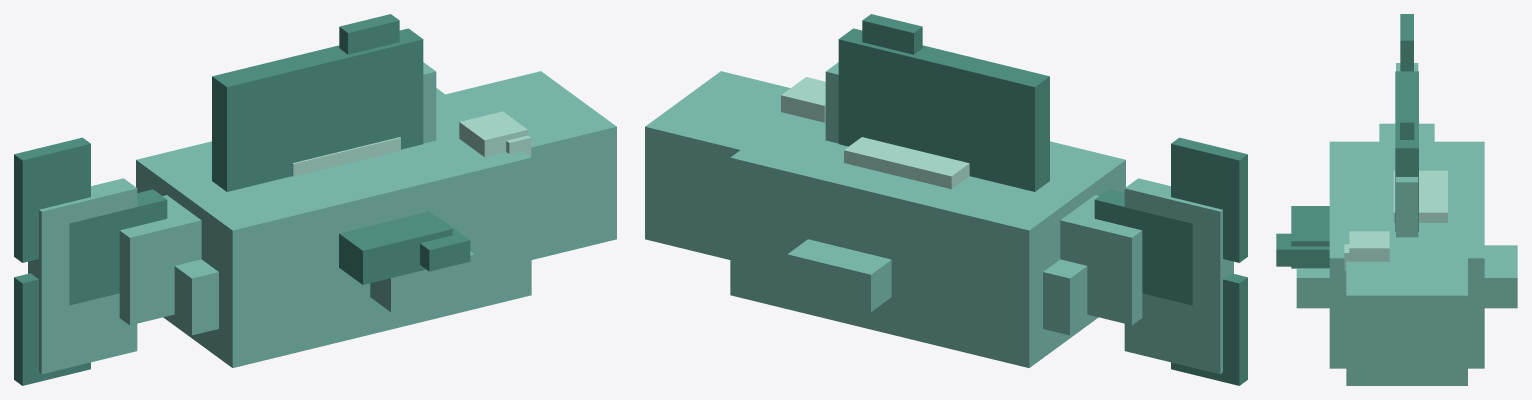
File: fish_opal_scad.glb
3 views of the same model, side by side, from view 1: azimuth 30°, elevation 25°; view 2: azimuth 150°, elevation 25°; view 3: azimuth 270°, elevation 25° (orthographic). The views are drawn at different scales.
Parts seen in each view (by area): view 1: FishArt_body, FishArt_dorsal, FishArt_tail, FishArt_pectoral, FishArt_eye, FishArt_specialty; view 2: FishArt_body, FishArt_dorsal, FishArt_tail, FishArt_specialty, FishArt_eye; view 3: FishArt_body, FishArt_pectoral, FishArt_dorsal, FishArt_specialty, FishArt_eye, FishArt_tail.
Part boxes in pixels (left/top/right/bottom): FishArt_body: left=28, top=62, right=616, bottom=374; FishArt_dorsal: left=212, top=14, right=423, bottom=191; FishArt_tail: left=14, top=137, right=167, bottom=385; FishArt_pectoral: left=339, top=211, right=470, bottom=284; FishArt_eye: left=459, top=111, right=531, bottom=156; FishArt_specialty: left=292, top=137, right=400, bottom=176; FishArt_body: left=645, top=62, right=1233, bottom=374; FishArt_dorsal: left=838, top=14, right=1049, bottom=191; FishArt_tail: left=1094, top=137, right=1247, bottom=385; FishArt_specialty: left=844, top=137, right=969, bottom=189; FishArt_eye: left=781, top=77, right=825, bottom=122; FishArt_body: left=1296, top=63, right=1517, bottom=385; FishArt_pectoral: left=1276, top=206, right=1329, bottom=268; FishArt_dorsal: left=1395, top=71, right=1418, bottom=231; FishArt_specialty: left=1393, top=170, right=1447, bottom=222; FishArt_eye: left=1344, top=231, right=1389, bottom=270; FishArt_tail: left=1400, top=14, right=1413, bottom=71.
Size of the model in its own units: 0.3091 by 0.1442 by 0.1439.
